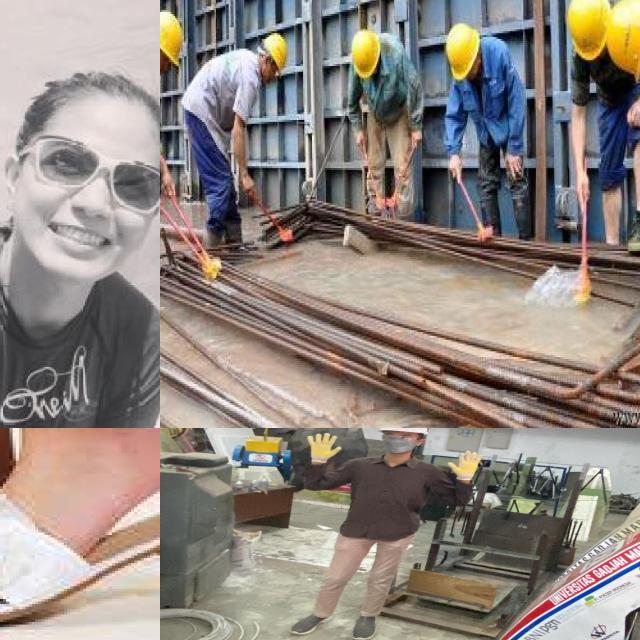Sandals: (0, 428, 160, 628)
face_mask: (382, 431, 416, 455)
glasses: (18, 136, 160, 216), (378, 433, 423, 441)
hand_glove: (442, 448, 484, 478), (303, 432, 346, 461)
hand_noglove: (616, 97, 640, 131), (571, 175, 593, 205), (238, 169, 259, 198), (404, 123, 427, 149), (445, 151, 465, 179), (160, 171, 179, 200), (502, 149, 523, 175), (349, 128, 370, 151)
head_helmet: (598, 0, 640, 79), (564, 0, 615, 64), (441, 19, 479, 81), (160, 8, 191, 69), (348, 27, 383, 77), (261, 30, 291, 79), (378, 428, 430, 435)
head_nohelmet: (12, 54, 160, 179)
person: (0, 50, 160, 428), (284, 428, 490, 640), (429, 6, 541, 251), (177, 26, 284, 263), (557, 0, 640, 263), (338, 21, 435, 236), (160, 11, 191, 305)
shoes: (218, 210, 247, 257), (285, 610, 336, 636), (346, 610, 381, 640), (621, 205, 640, 255)
